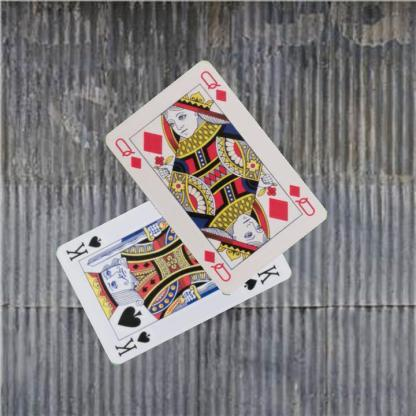Ks: (112, 329, 152, 359)
Qd: (278, 181, 317, 218), (112, 134, 142, 170)
